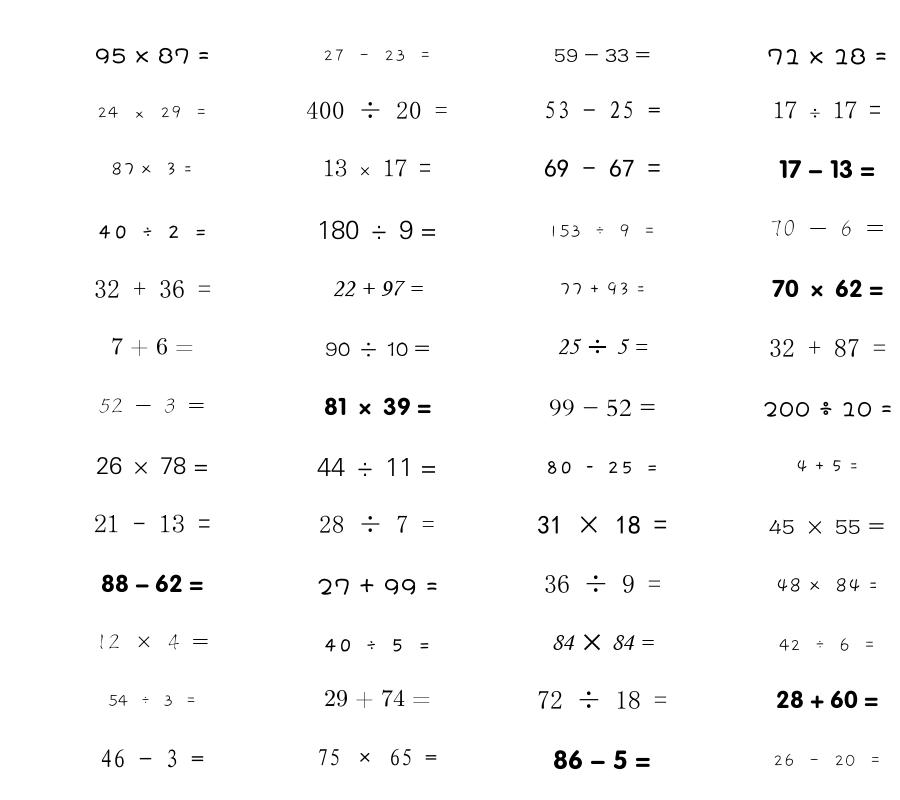MQ: (306, 101, 448, 119), (537, 515, 667, 534), (537, 690, 667, 709), (317, 220, 437, 240), (94, 514, 211, 533), (317, 458, 437, 476), (317, 748, 437, 766), (96, 456, 209, 475), (772, 279, 883, 298), (544, 101, 661, 119), (544, 159, 661, 177), (94, 280, 211, 298), (769, 339, 886, 357), (544, 575, 661, 593), (319, 515, 435, 533), (763, 401, 892, 417), (317, 578, 438, 595), (767, 48, 887, 65), (324, 397, 431, 416), (324, 689, 431, 708), (100, 749, 204, 768), (553, 750, 651, 770), (95, 47, 210, 64), (773, 101, 881, 119), (323, 159, 431, 177), (770, 220, 884, 237), (101, 574, 203, 593), (776, 690, 878, 709), (549, 399, 656, 417), (779, 159, 875, 179), (769, 519, 885, 535), (96, 634, 209, 650), (551, 634, 654, 651), (99, 398, 205, 413), (111, 337, 194, 356), (325, 342, 430, 357), (97, 105, 208, 119), (97, 225, 208, 239), (332, 280, 423, 297), (557, 338, 648, 355), (776, 578, 878, 593), (773, 753, 882, 767), (548, 224, 656, 238), (323, 638, 431, 652), (545, 461, 659, 474), (323, 49, 432, 62), (779, 638, 876, 652), (554, 48, 650, 62), (559, 282, 646, 296), (108, 694, 197, 707), (111, 162, 193, 176), (796, 460, 859, 473)
